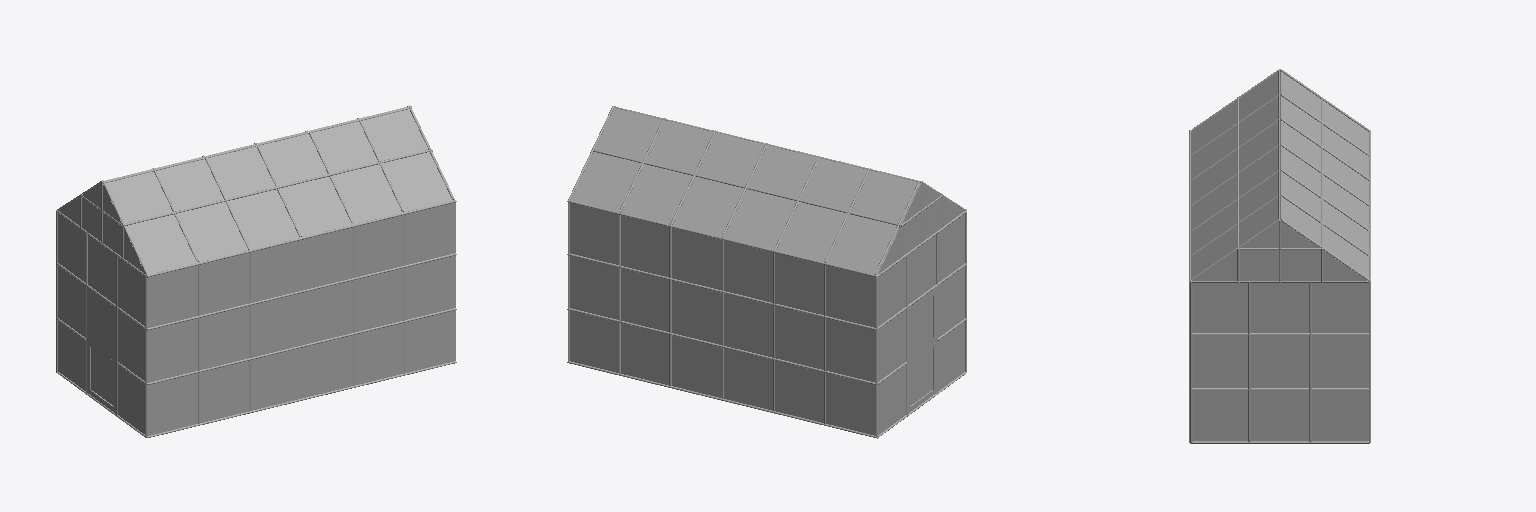
3 renders of one model, left to right at view 1: azimuth 30°, elevation 25°; view 2: azimuth 150°, elevation 25°; view 3: azimuth 270°, elevation 25°, orthographic.
Visible parts, largest first — view 1: Prism02, Cylinder01, Line01, Box01; view 2: Prism02, Cylinder01, Line01, Box01; view 3: Prism02, Cylinder01.
Part boxes in pixels (left/top/right/bottom): Prism02: left=58, top=106, right=455, bottom=435; Cylinder01: left=56, top=105, right=456, bottom=437; Line01: left=87, top=287, right=115, bottom=413; Box01: left=91, top=313, right=113, bottom=405; Prism02: left=570, top=107, right=965, bottom=435; Cylinder01: left=567, top=106, right=966, bottom=438; Line01: left=908, top=287, right=936, bottom=413; Box01: left=910, top=298, right=932, bottom=405; Prism02: left=1191, top=69, right=1368, bottom=440; Cylinder01: left=1189, top=69, right=1370, bottom=443.
Size of the model in its own units: 60.53 by 41.67 by 30.6.